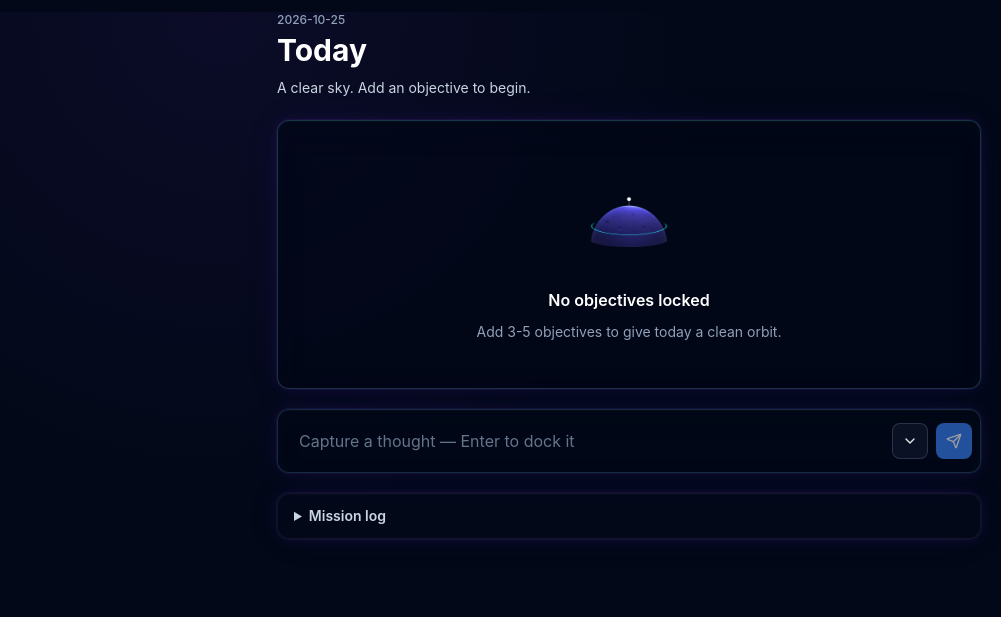
Test: DailyMissionControlPage › docks a quick capture signal
Type "Remember pricing page idea" into the field with placeholder "Capture a thought — Enter to dock it".
click(585, 441); type("Remember pricing page idea")  # box [286,418,884,464]
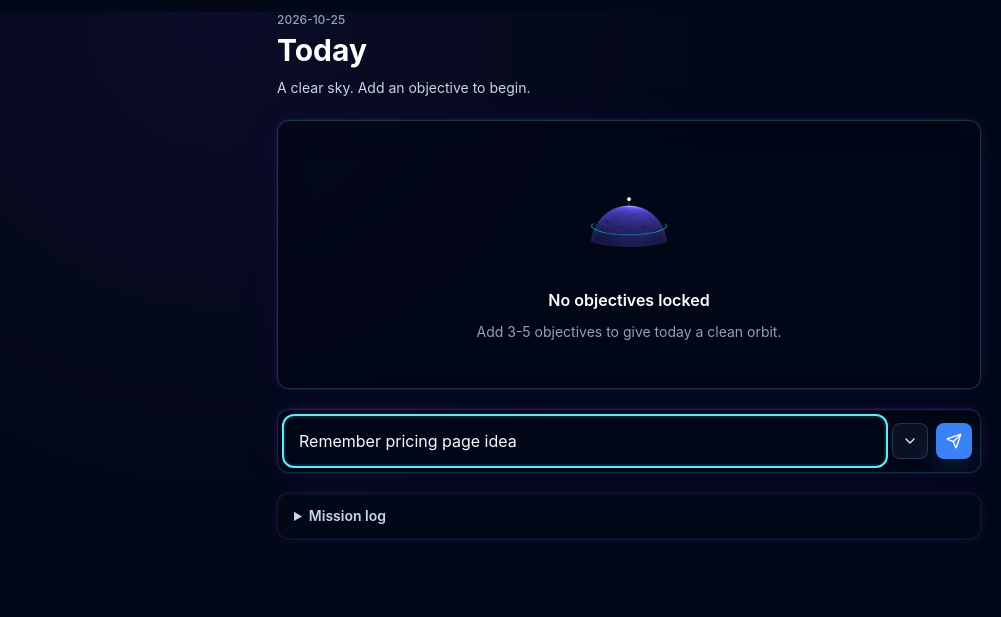
Click the button named "Dock signal".
click(954, 441)  # box [936,423,972,459]
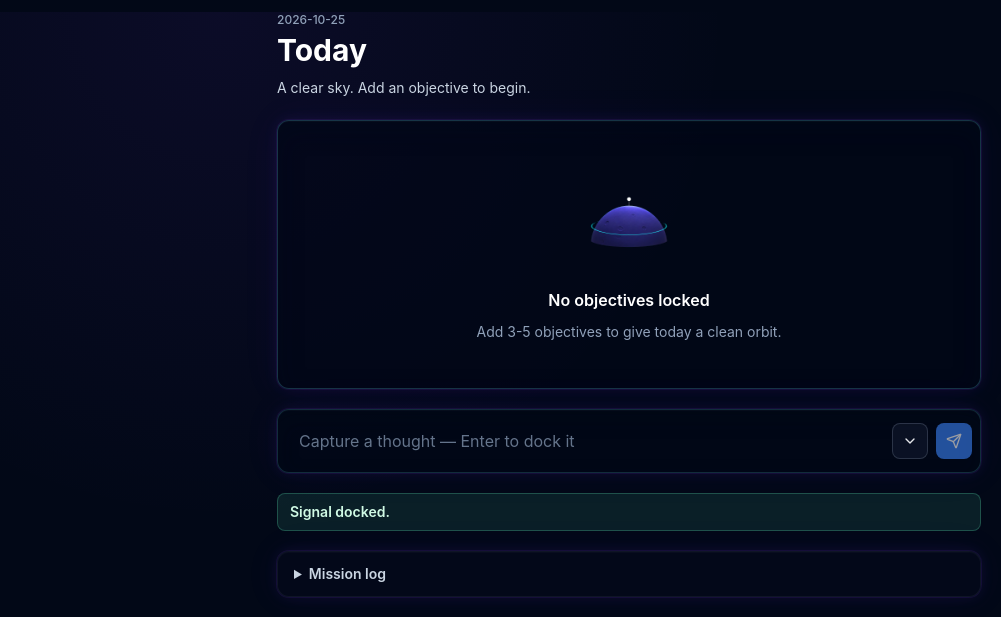
Check: the text "Signal docked." is shown, box [277,493,981,531]
Check: the field with placeholder "Capture a thought — Enter to dock it" is empty, box [286,418,884,464]
